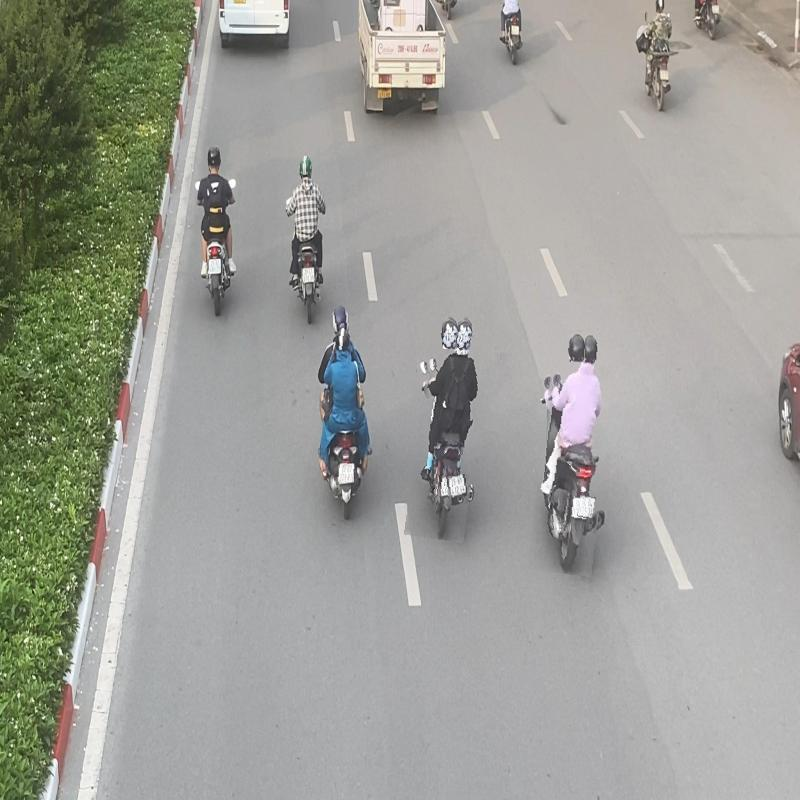helmet: (442, 316, 458, 349), (568, 334, 585, 362), (332, 306, 349, 332), (336, 328, 351, 354)
licenseplate: (447, 474, 466, 498), (578, 496, 596, 518), (338, 463, 354, 483)
motorcyclist: (534, 330, 614, 576), (412, 315, 486, 542), (316, 302, 375, 522)
